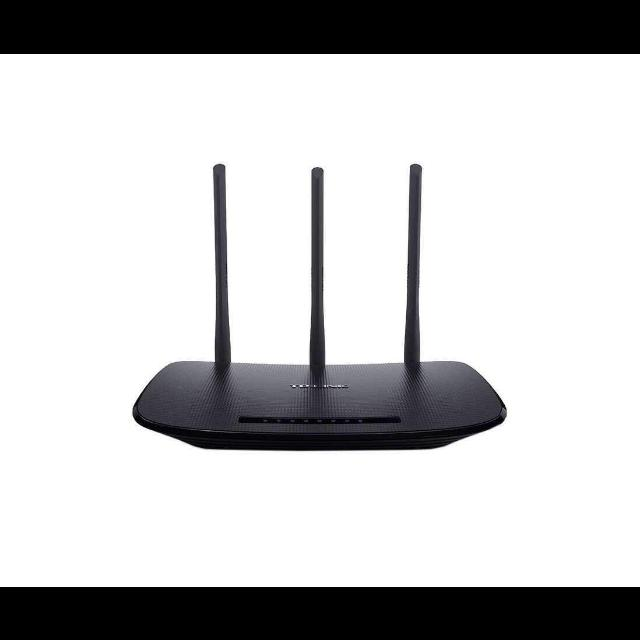Router: (133, 166, 509, 451)
